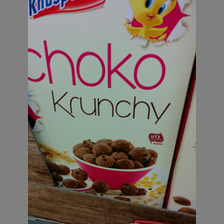cereal: (28, 1, 195, 207)
